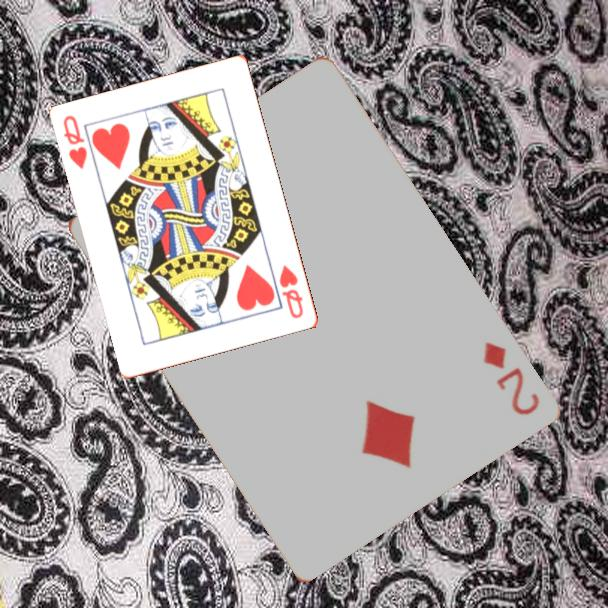d02: (478, 338, 542, 418)
h12: (276, 261, 307, 322), (60, 112, 90, 172)
